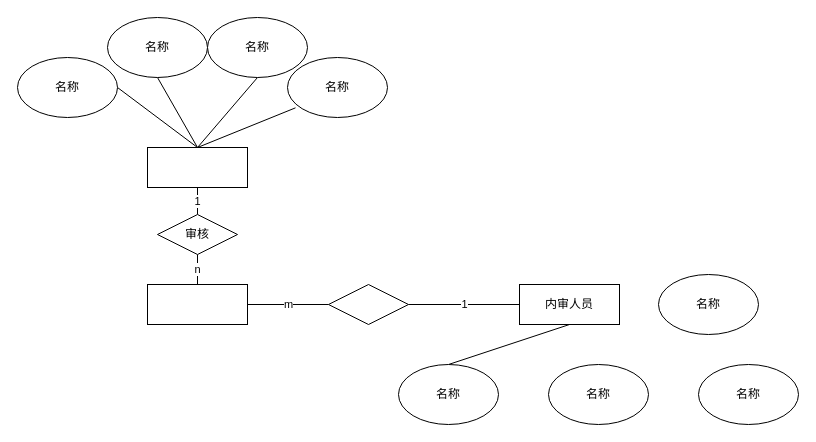
This 816x442 diagram has some shape labels left out. Each missing label, with the centre of its shape:
创建: the point at 368,304
审计机关 /厅: the point at 197,167
审计课题: the point at 197,304
